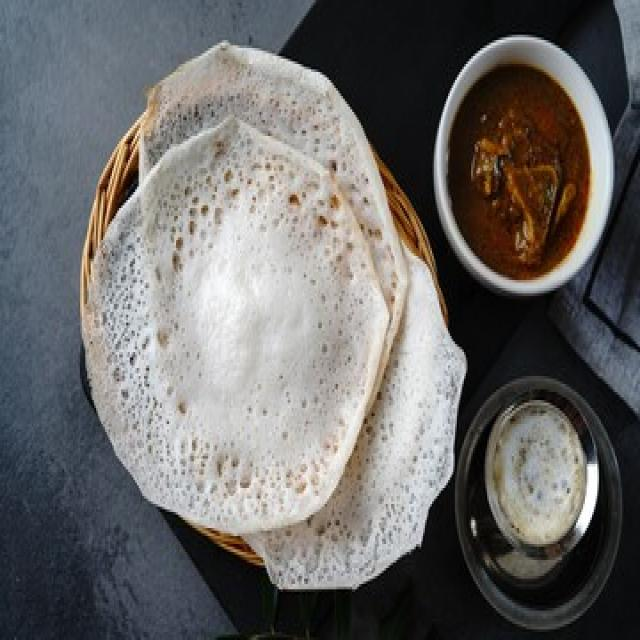AAPAM: (69, 39, 462, 620)
CURRY: (448, 67, 591, 273)
